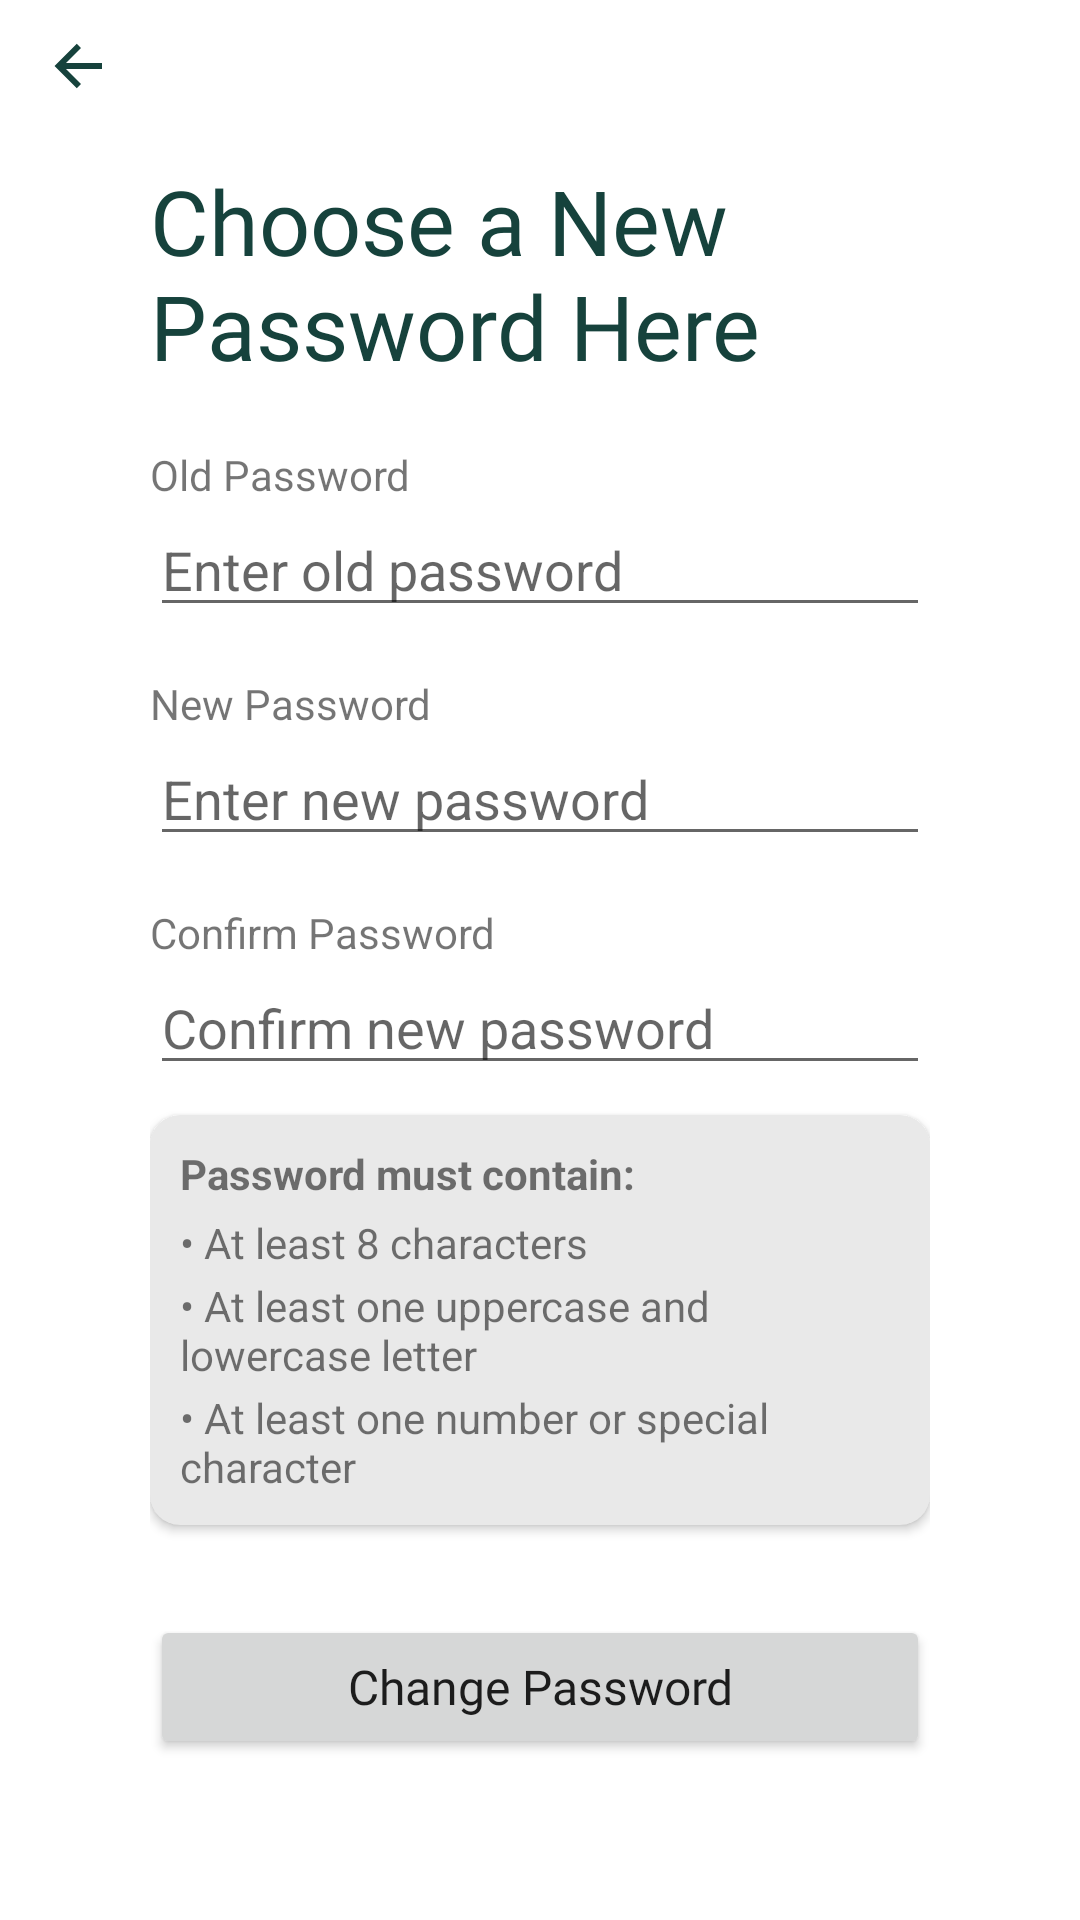

Icons on this 1080×1920 Android screen, each with the point to tap as point (x, y):
arrow left: point (78, 66)
